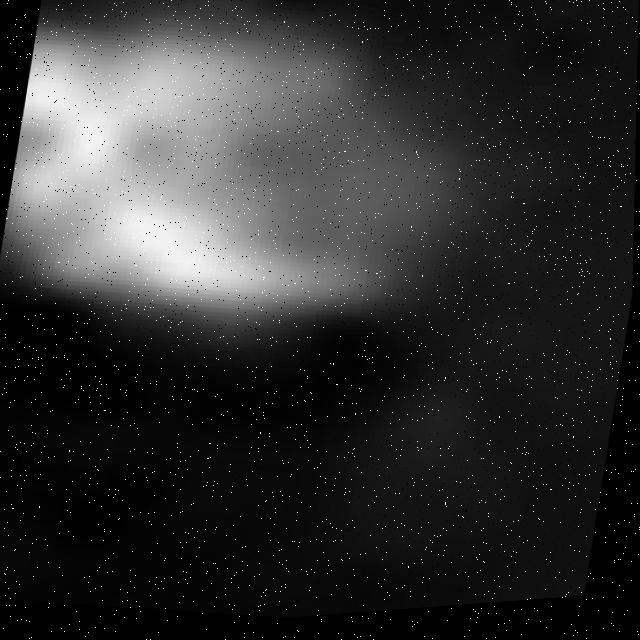person: (1, 1, 578, 405)
